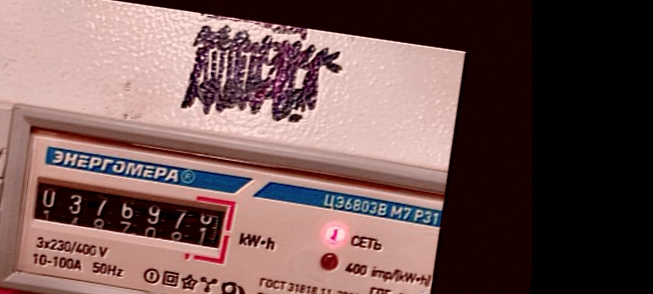0: (41, 186, 58, 210)
1: (196, 226, 210, 247)
3: (68, 193, 86, 217)
6: (120, 196, 138, 221)
7: (93, 193, 111, 218), (173, 207, 190, 232)
9: (145, 202, 163, 227)
screen: (21, 167, 240, 269)
